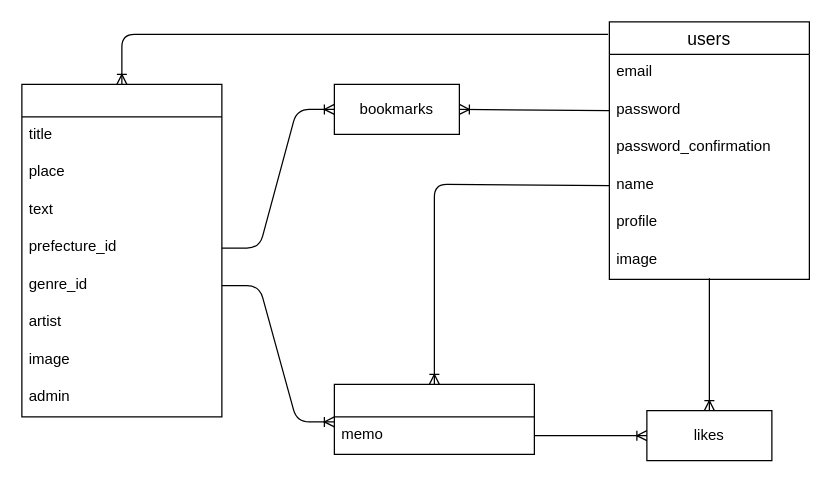
The diagram is 831 pixels wide and 483 high, and some of its shapes have lost their labels. The shapes that lost their labels are listed below. From the top down, each one's box as (x1, y1, x2, y2) in pixels, then its label:
(21, 83, 222, 417): museums
(333, 383, 534, 454): memos
